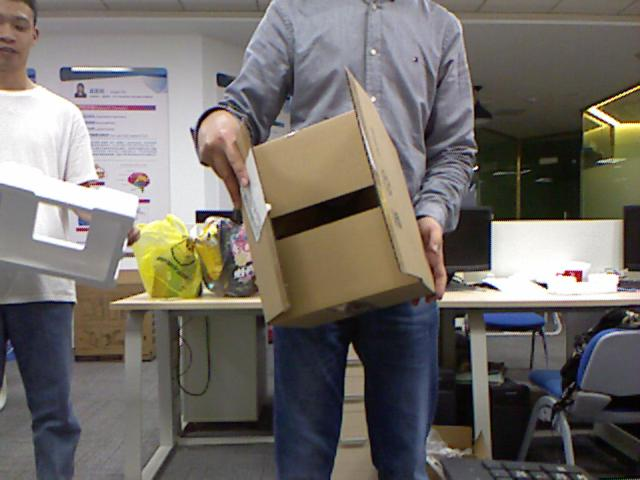cardboard paper: (238, 69, 432, 325)
